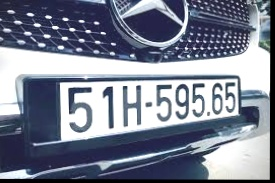Bien-so: (52, 76, 249, 159)
